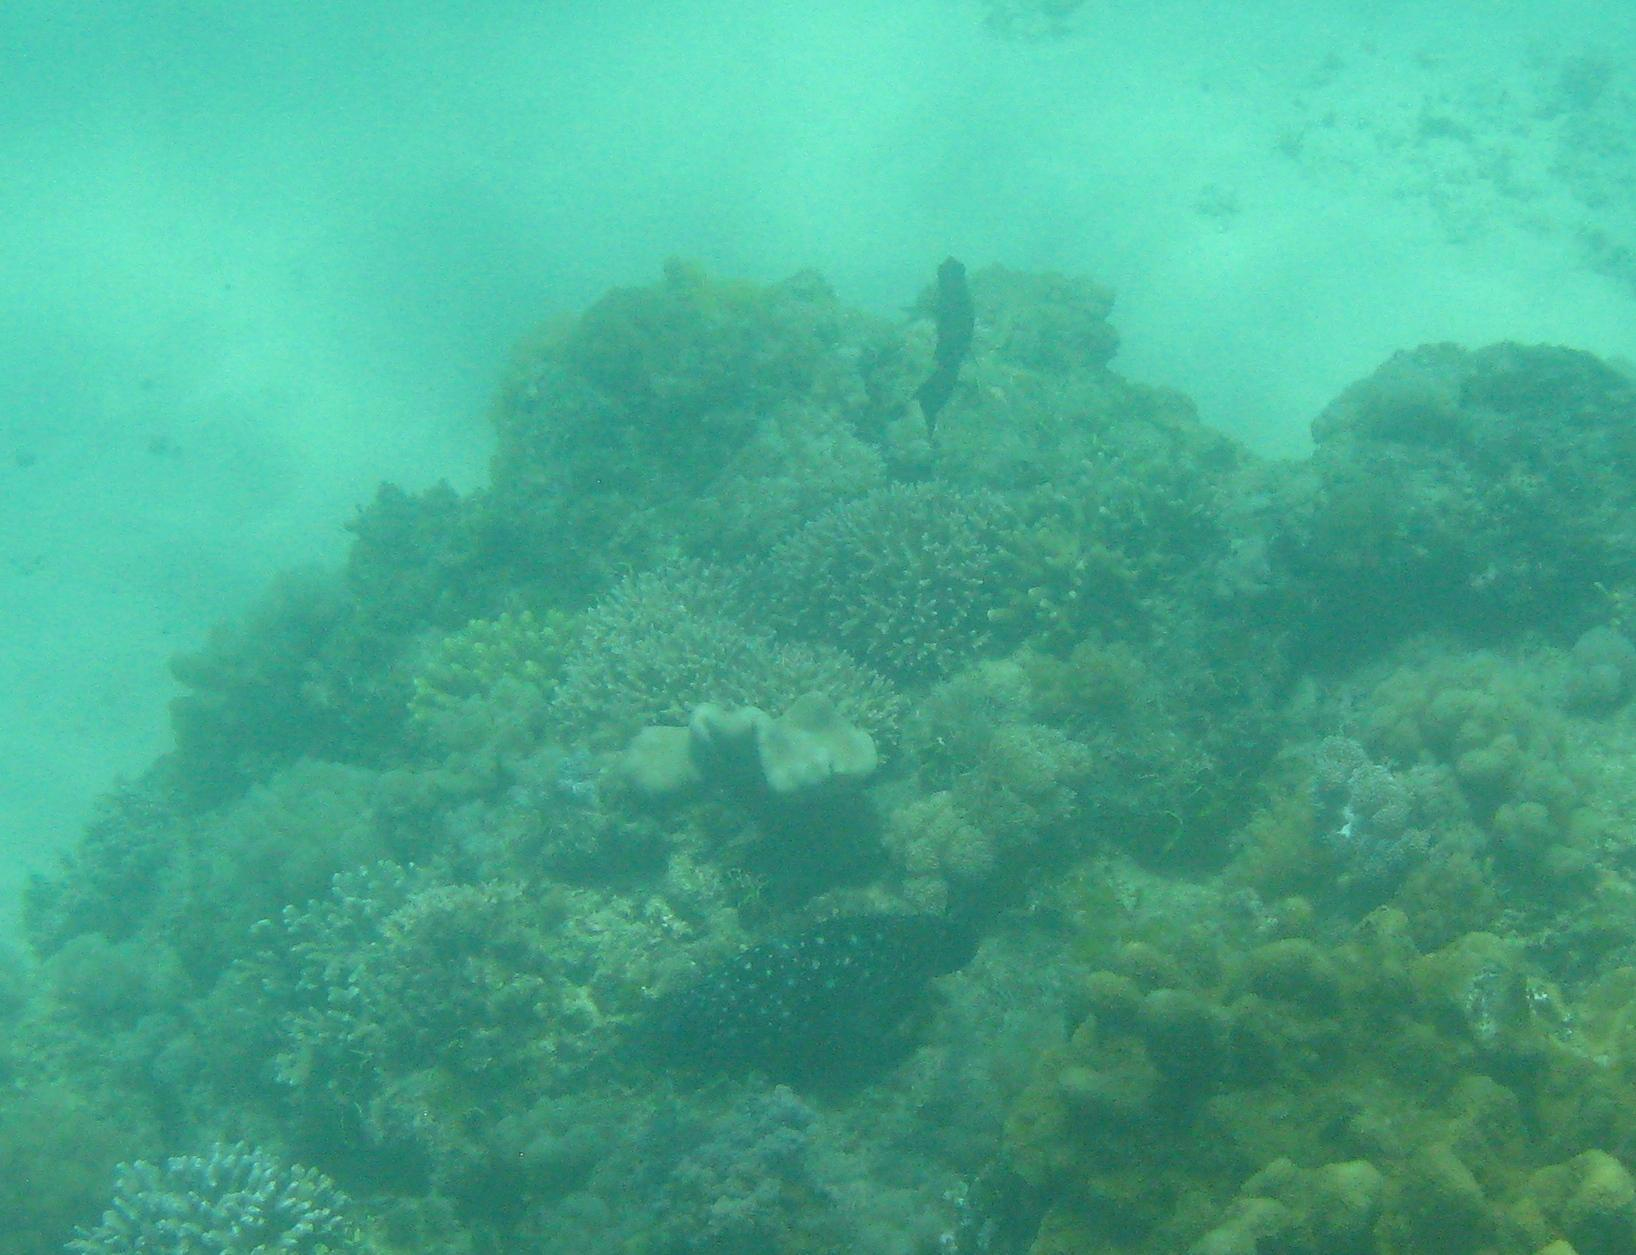Fish: (490, 881, 1049, 1144)
